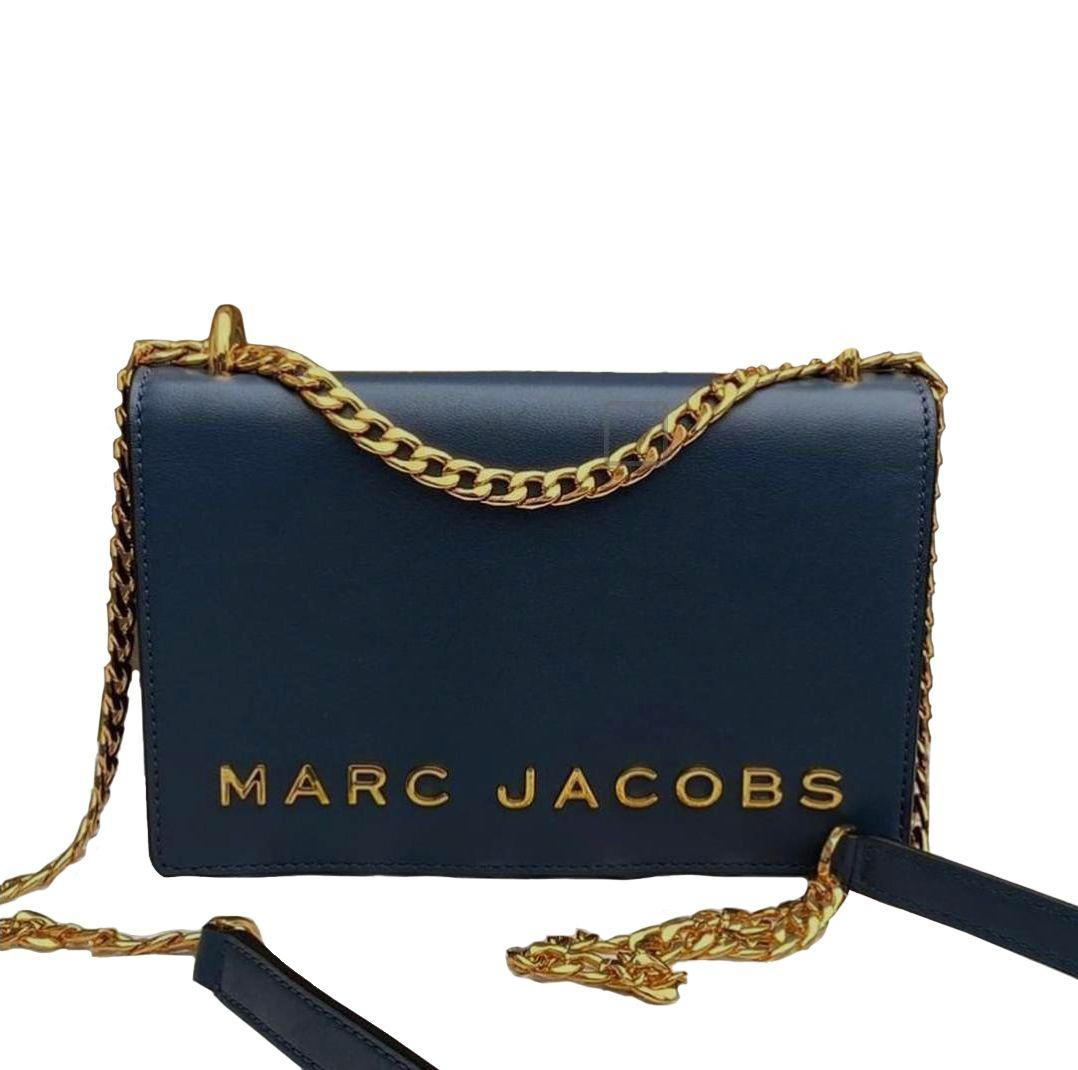MARC-JACOBS: (219, 762, 844, 809)
